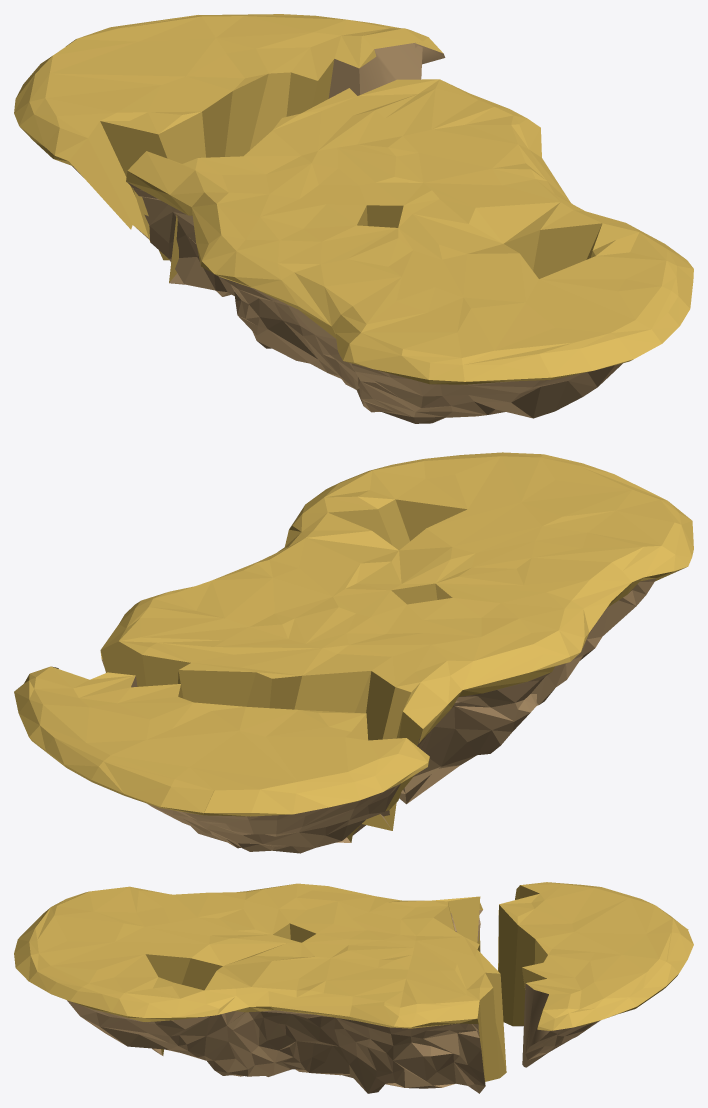
The model's file is desertisland.fbx.
3 renders of one model, top to bottom at view 1: azimuth 30°, elevation 25°; view 2: azimuth 150°, elevation 25°; view 3: azimuth 270°, elevation 25°, orthographic. The views are drawn at different scales.
Parts seen in each view (by area): view 1: polySurface7; view 2: polySurface7; view 3: polySurface7.
Part boxes in pixels (<box>): polySurface7: <box>14,14,693,423</box>; polySurface7: <box>14,452,693,853</box>; polySurface7: <box>14,882,693,1093</box>.
Size of the model in its own units: 2172 by 885 by 4390.
